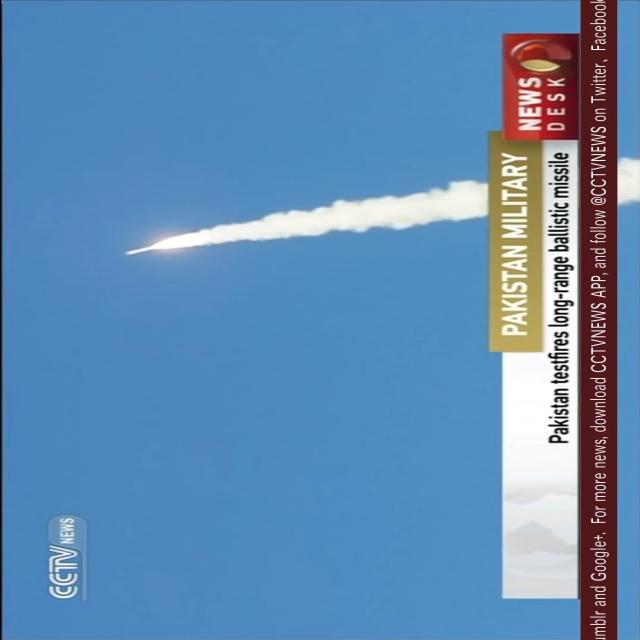missile: (118, 244, 160, 256)
